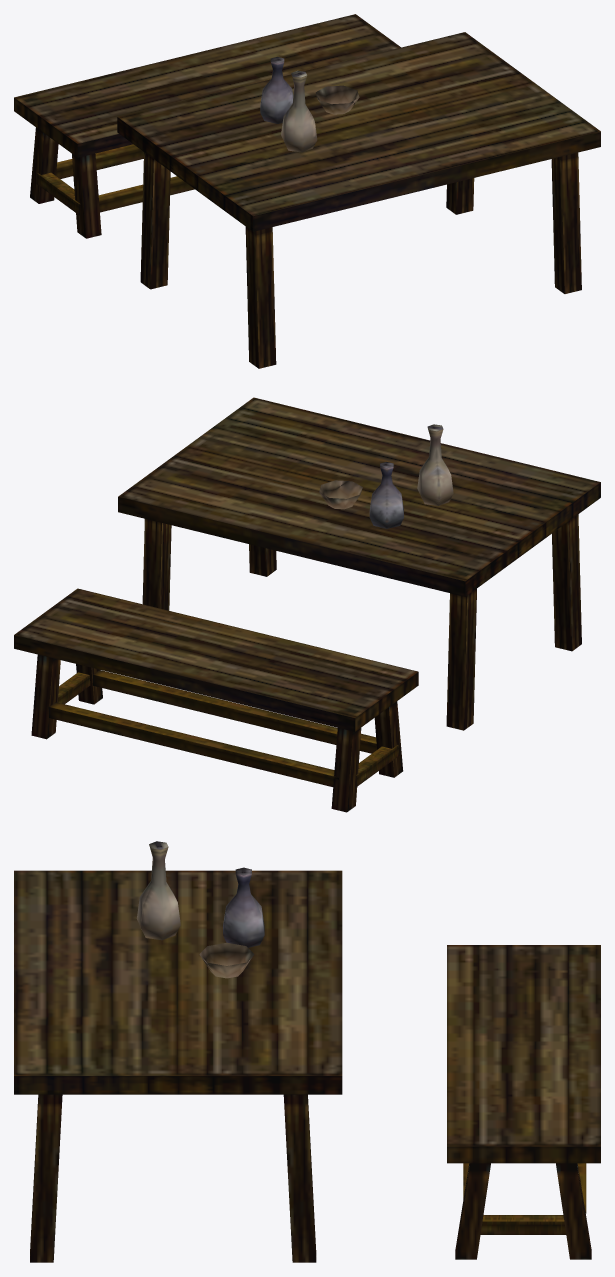
The picture shows the model from 3 angles, top to bottom: view 1: azimuth 30°, elevation 25°; view 2: azimuth 150°, elevation 25°; view 3: azimuth 270°, elevation 25°; orthographic projection. The views are drawn at different scales.
Parts seen in each view (by area): view 1: Sphere01; view 2: Sphere01; view 3: Sphere01.
Part boxes in pixels (x1,y1,x2,y2): Sphere01: (14,14,600,368); Sphere01: (14,397,600,812); Sphere01: (14,841,600,1262).
Size of the model in its own units: 2.05 by 1.31 by 2.48.
Materials: 1 (1 with a texture image).
